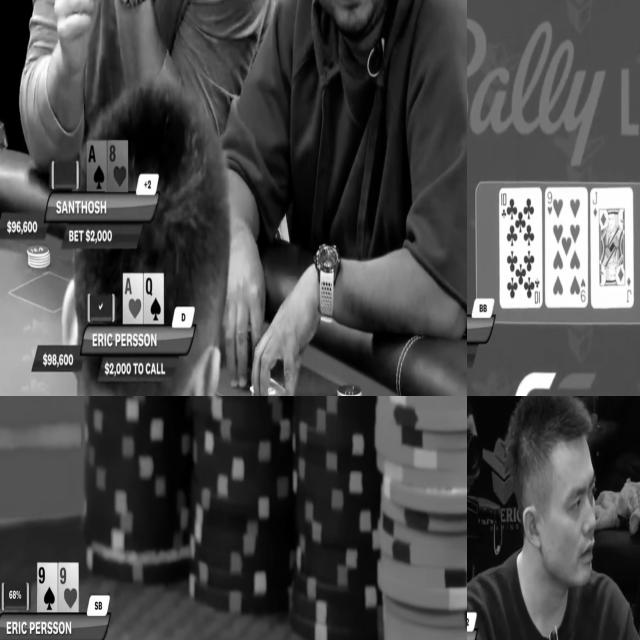8H: (105, 141, 128, 193)
9H: (59, 563, 78, 612)
9S: (38, 564, 57, 612)
AS: (86, 142, 106, 191)
